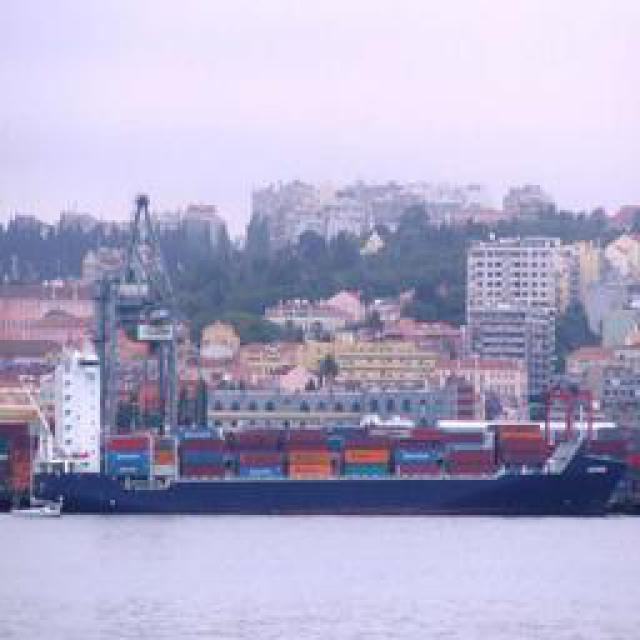Ship: (21, 348, 640, 519)
